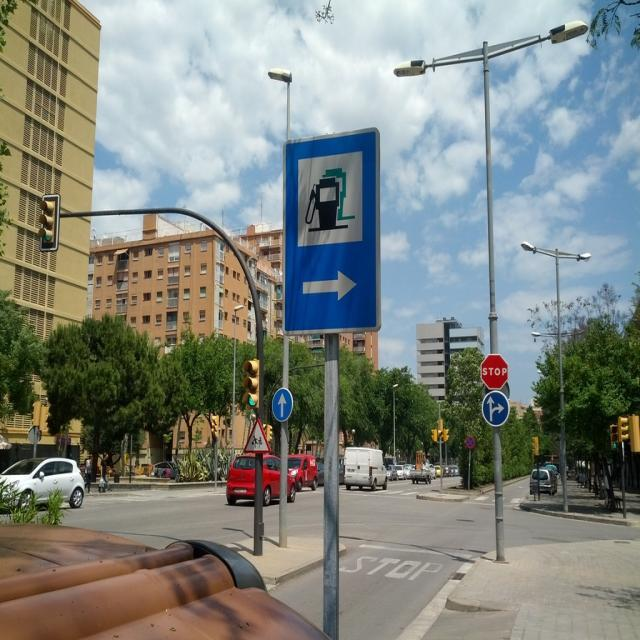road_sign: (284, 135, 379, 326), (241, 417, 271, 455), (481, 390, 511, 427), (482, 353, 510, 388), (269, 389, 293, 420)
